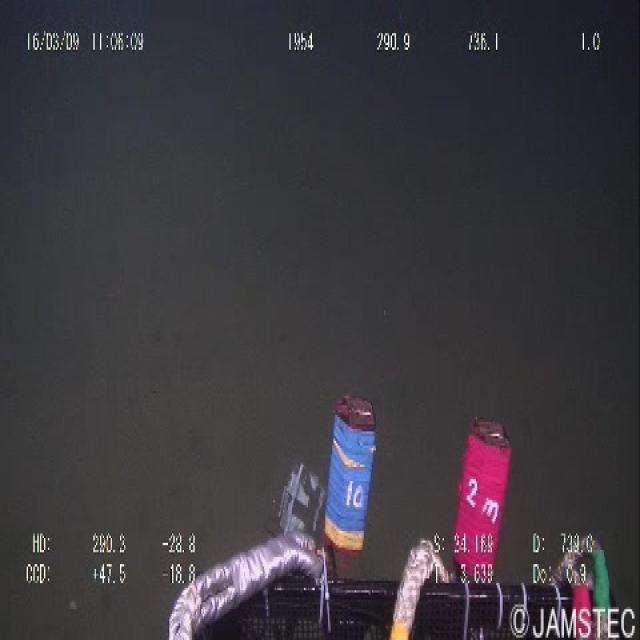plastic: (269, 453, 327, 543)
